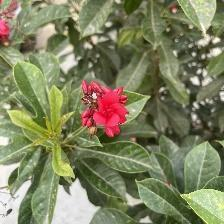jatropha: (91, 92, 129, 131)
